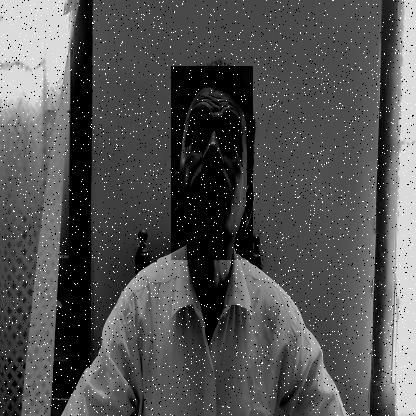Distracted: (171, 66, 253, 260)
